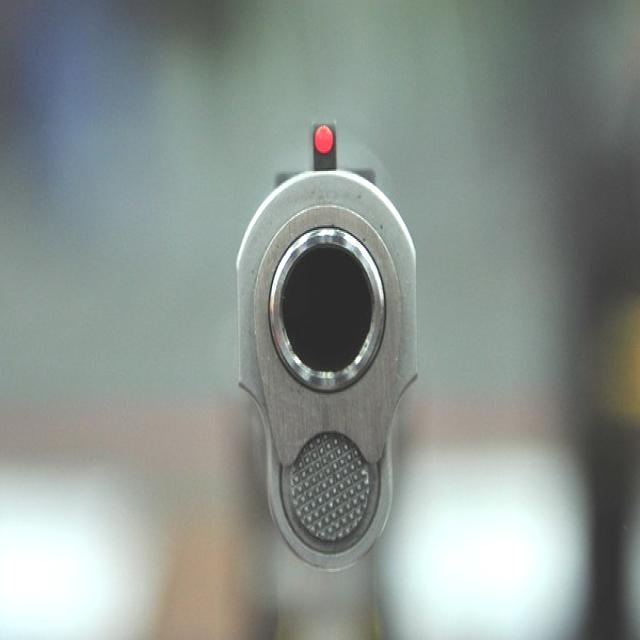pistol: (226, 75, 427, 636)
